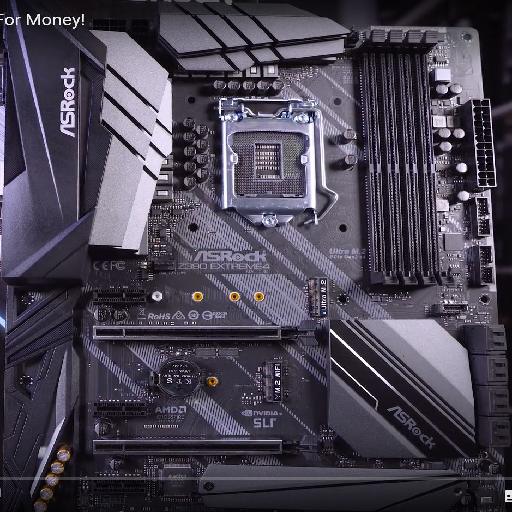CPU: (220, 97, 318, 227)
GPU: (91, 434, 323, 464), (92, 319, 319, 347)
MOTHERBOARD: (1, 26, 506, 510)
RAM: (357, 29, 456, 288)
SSD: (259, 359, 290, 403), (305, 275, 333, 319)
